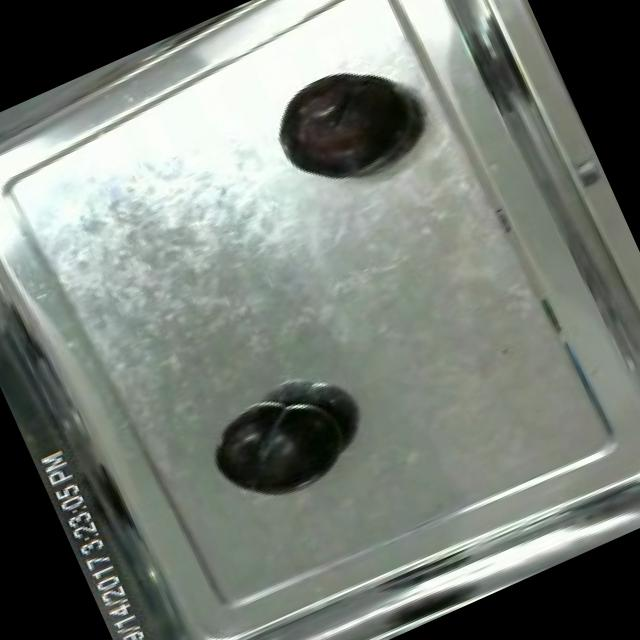Fruit: (258, 49, 432, 208), (196, 374, 366, 522)
